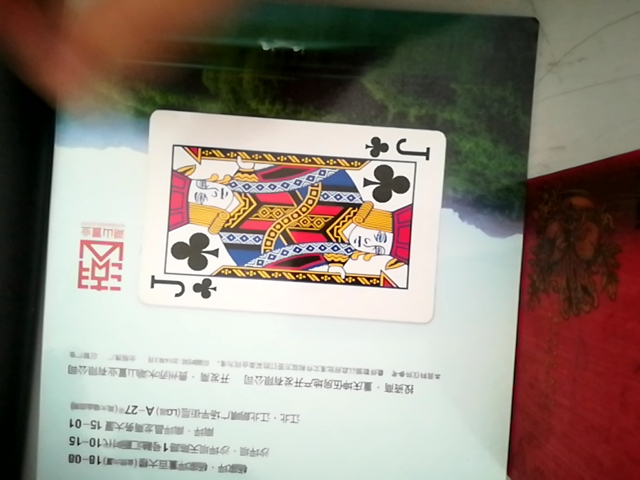mh j: (107, 110, 446, 320)
